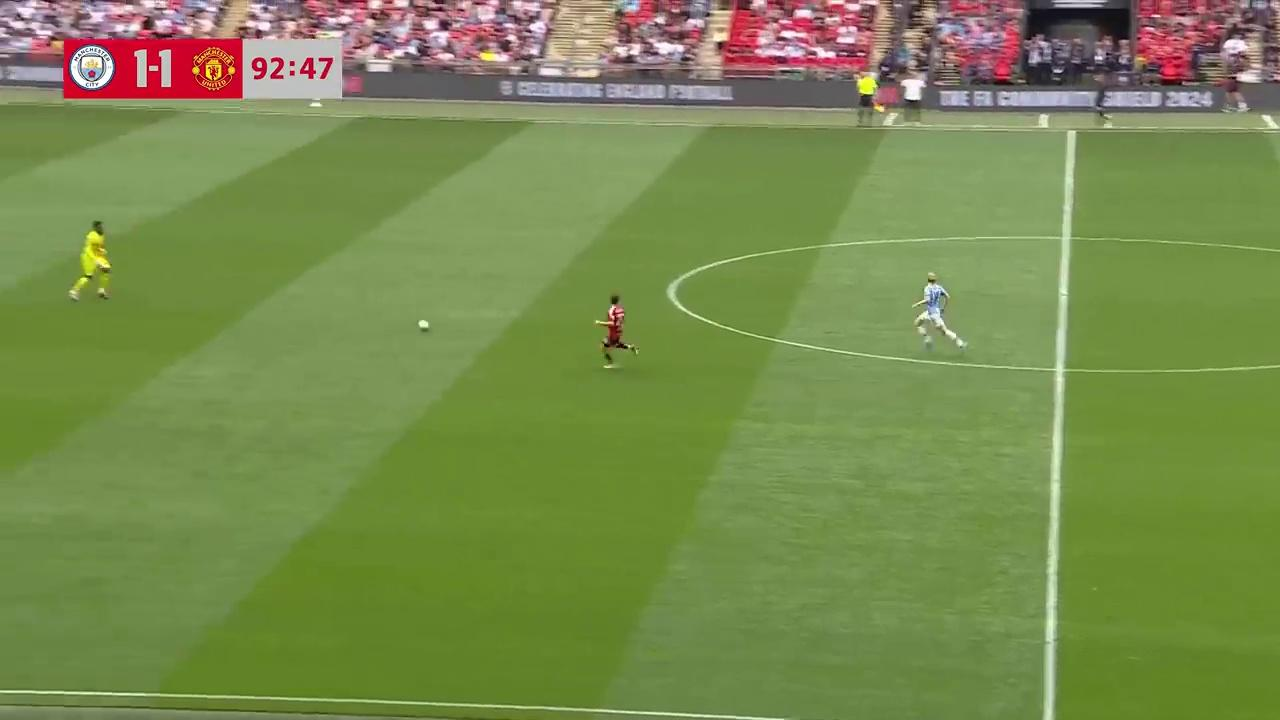ball: (415, 315, 432, 333)
player: (917, 273, 967, 351), (68, 221, 112, 302), (595, 293, 639, 367)
